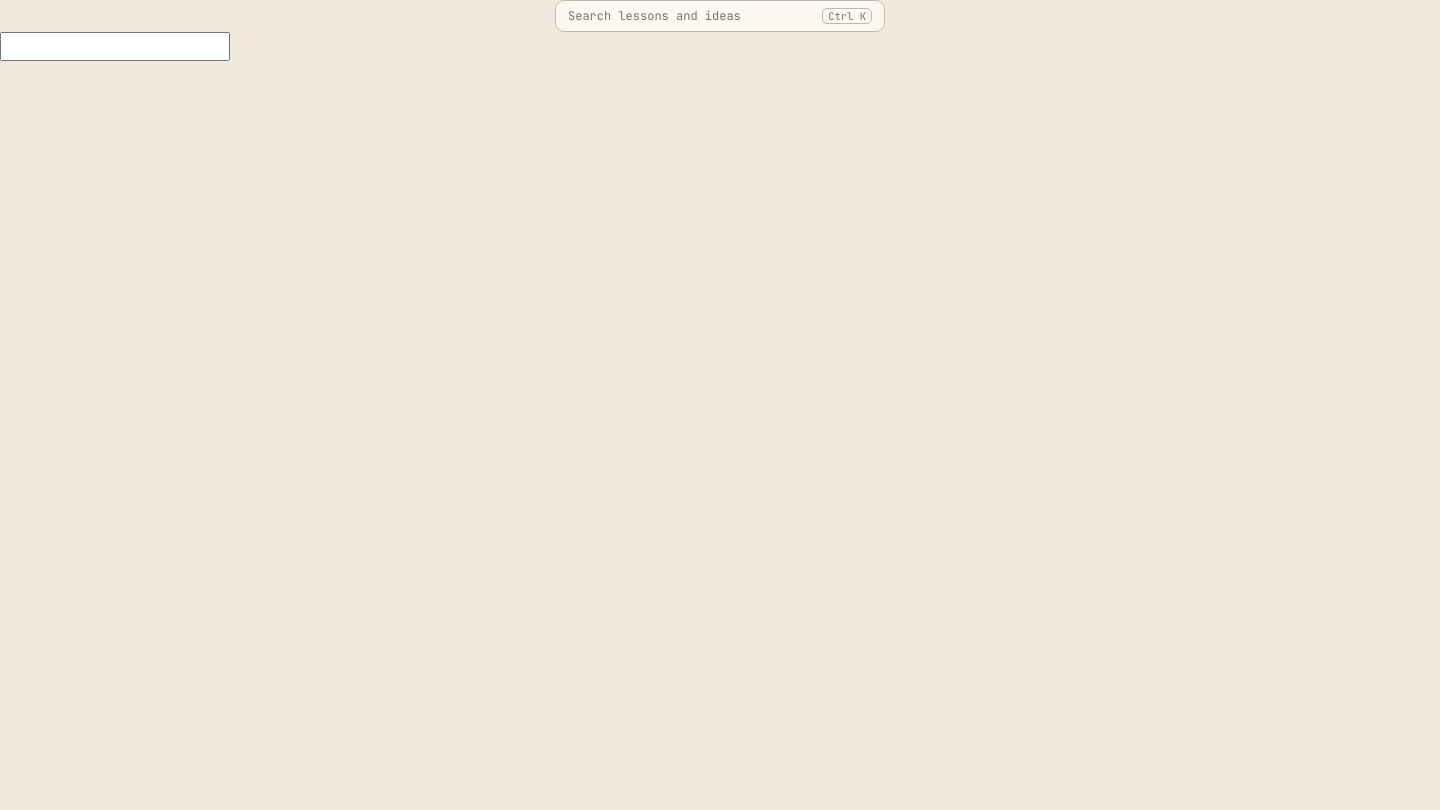
Test: SearchPalette › Ctrl K opens it, loads the index once, and Enter opens the highlighted result
Step 1. Type keys "{Control>}k{/Control}"
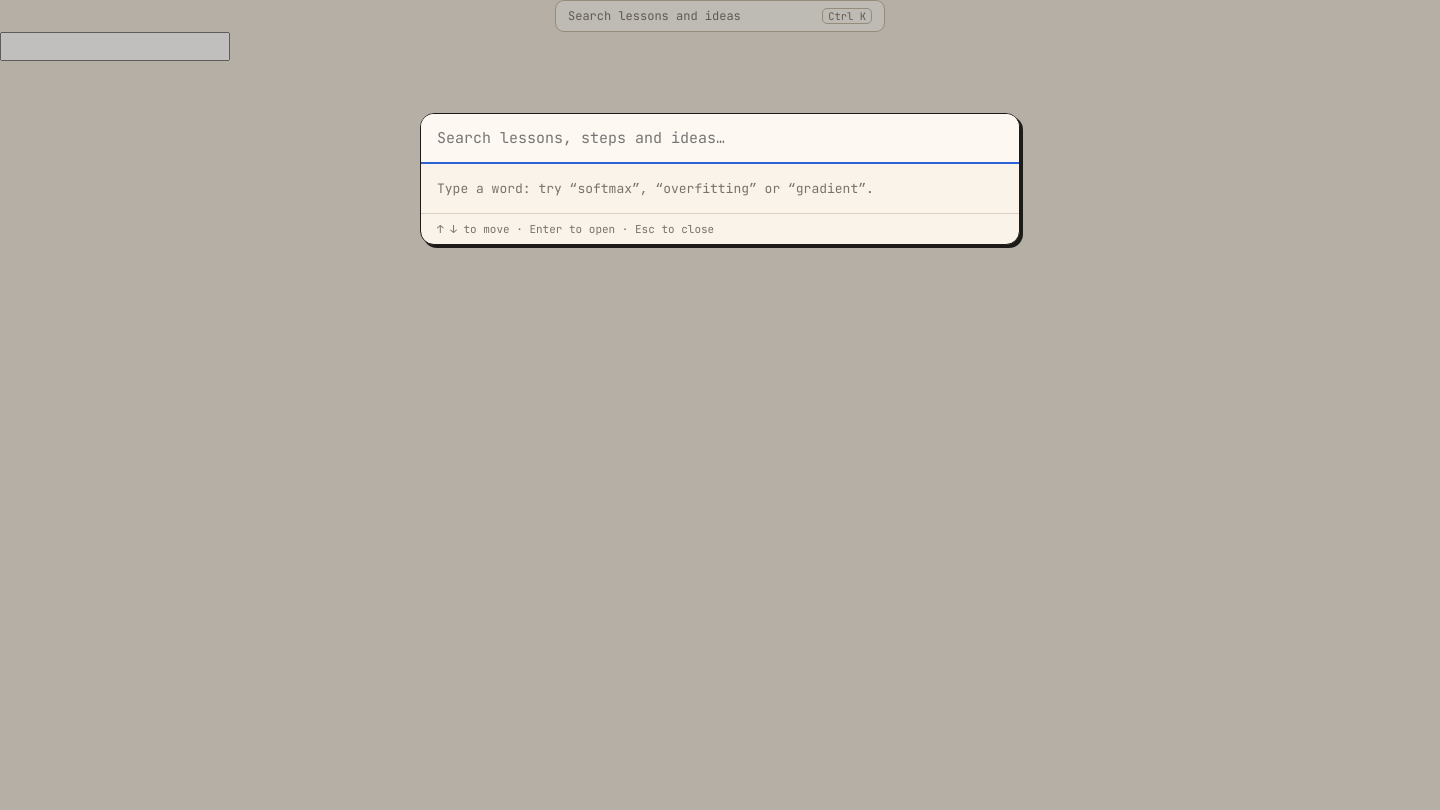
Step 2. Type "blame" into the dropdown → [720, 139], box [421,114,1019,164]
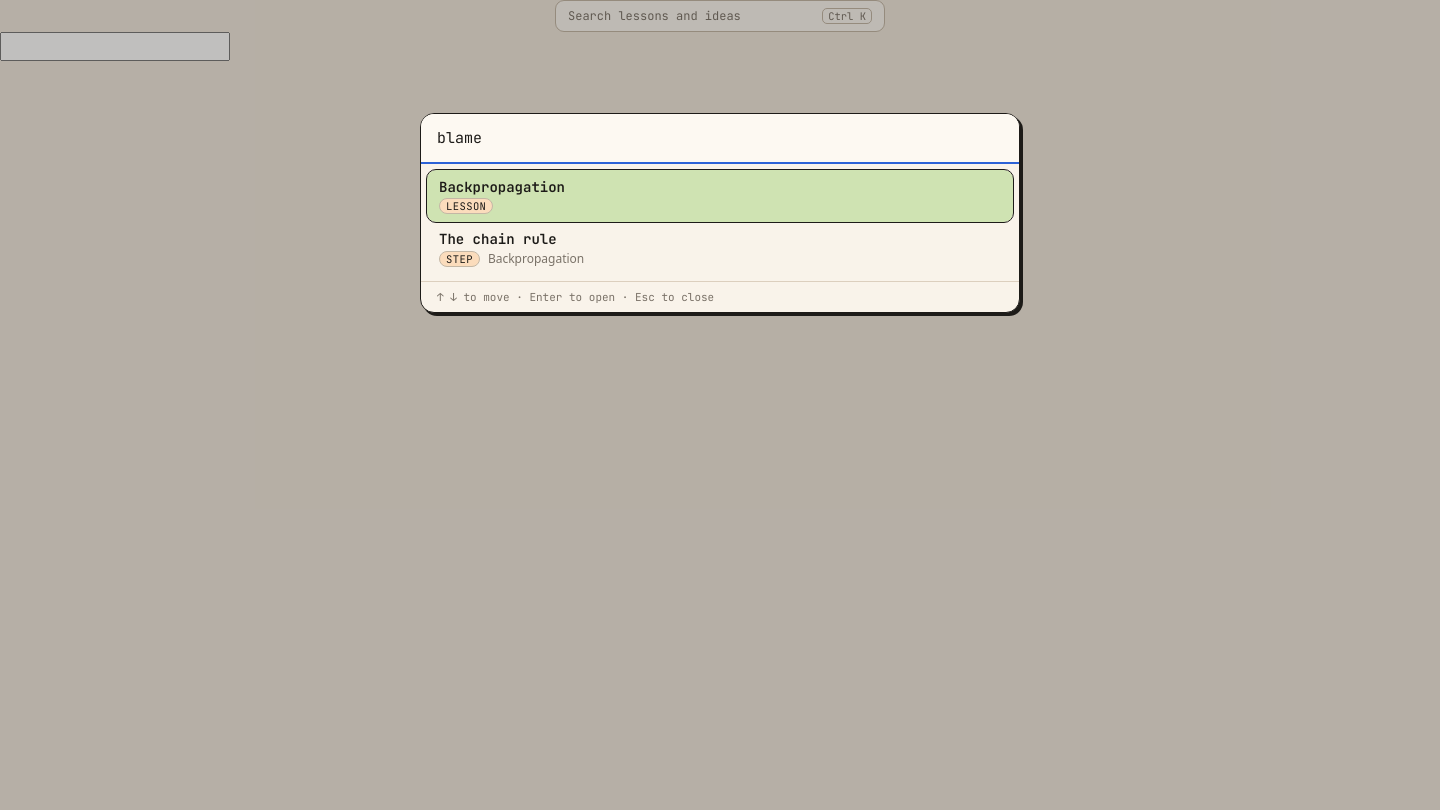
Expected: the number of options is 2, [427,170,1013,222]; [439,230,584,267]
Step 3. Press Arrowdown
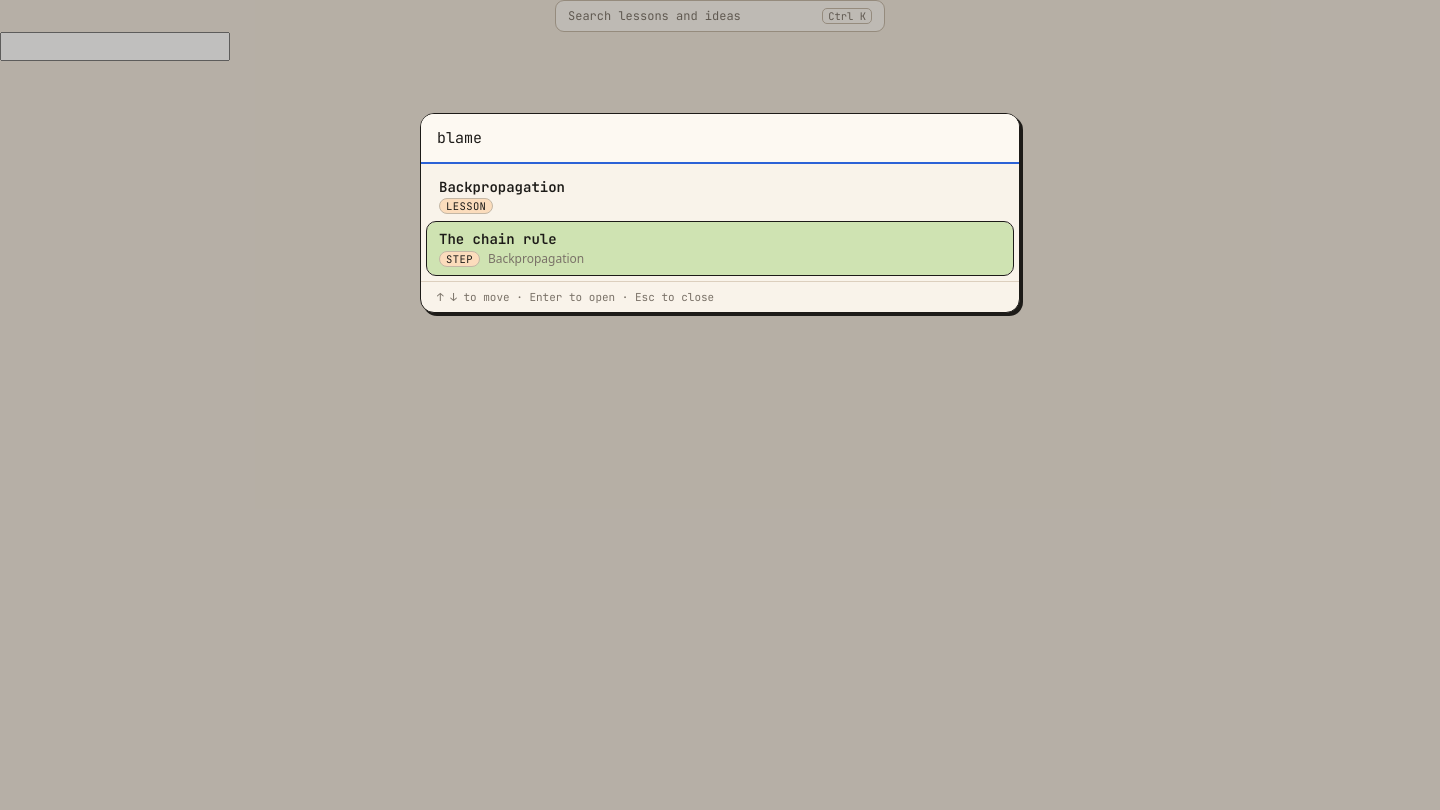
Expected: the option "The chain rule Step Backpropagation" is selected, [427,222,1013,275]
Step 4. Press Enter
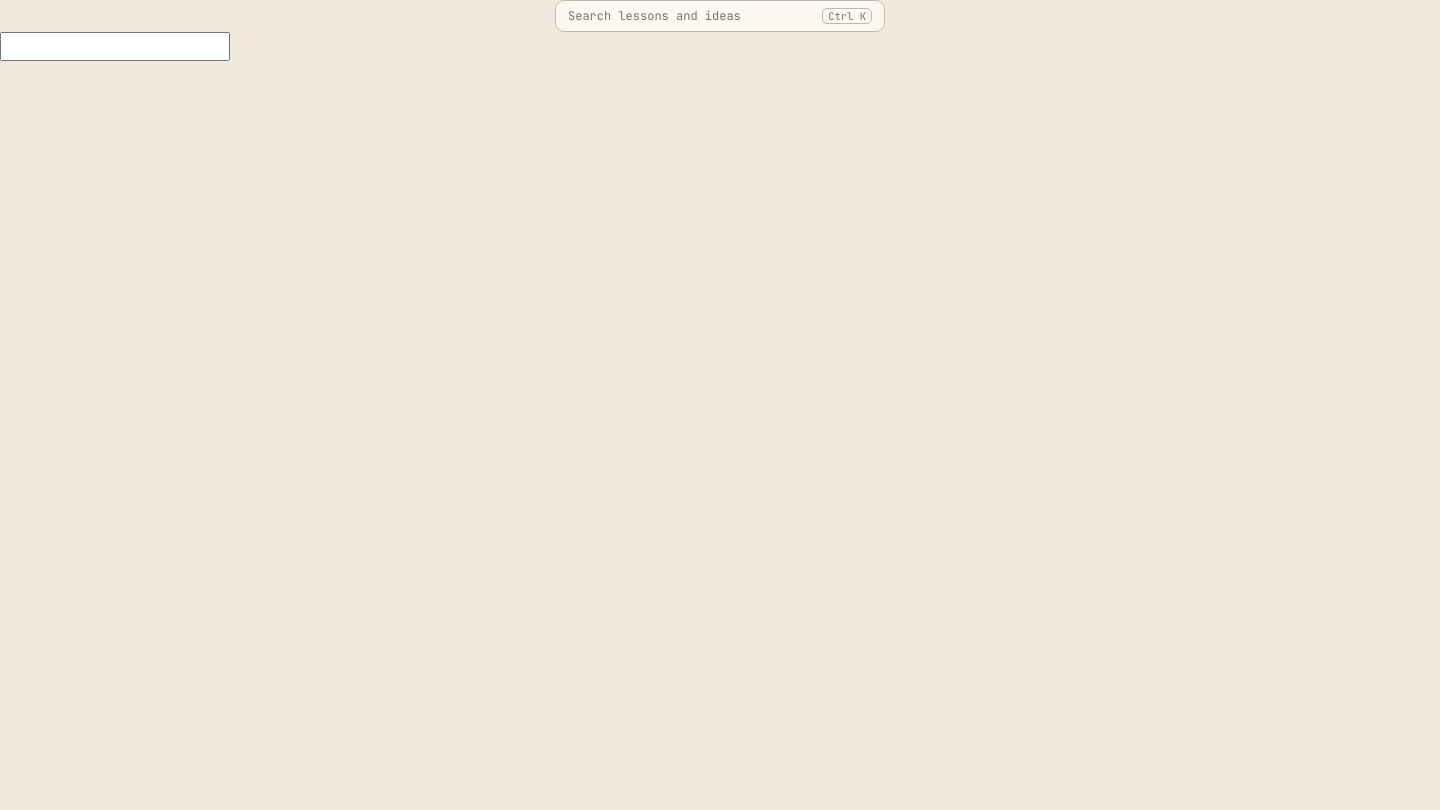
Expected: the dialog is gone
Step 5. Type keys "{Control>}k{/Control}"
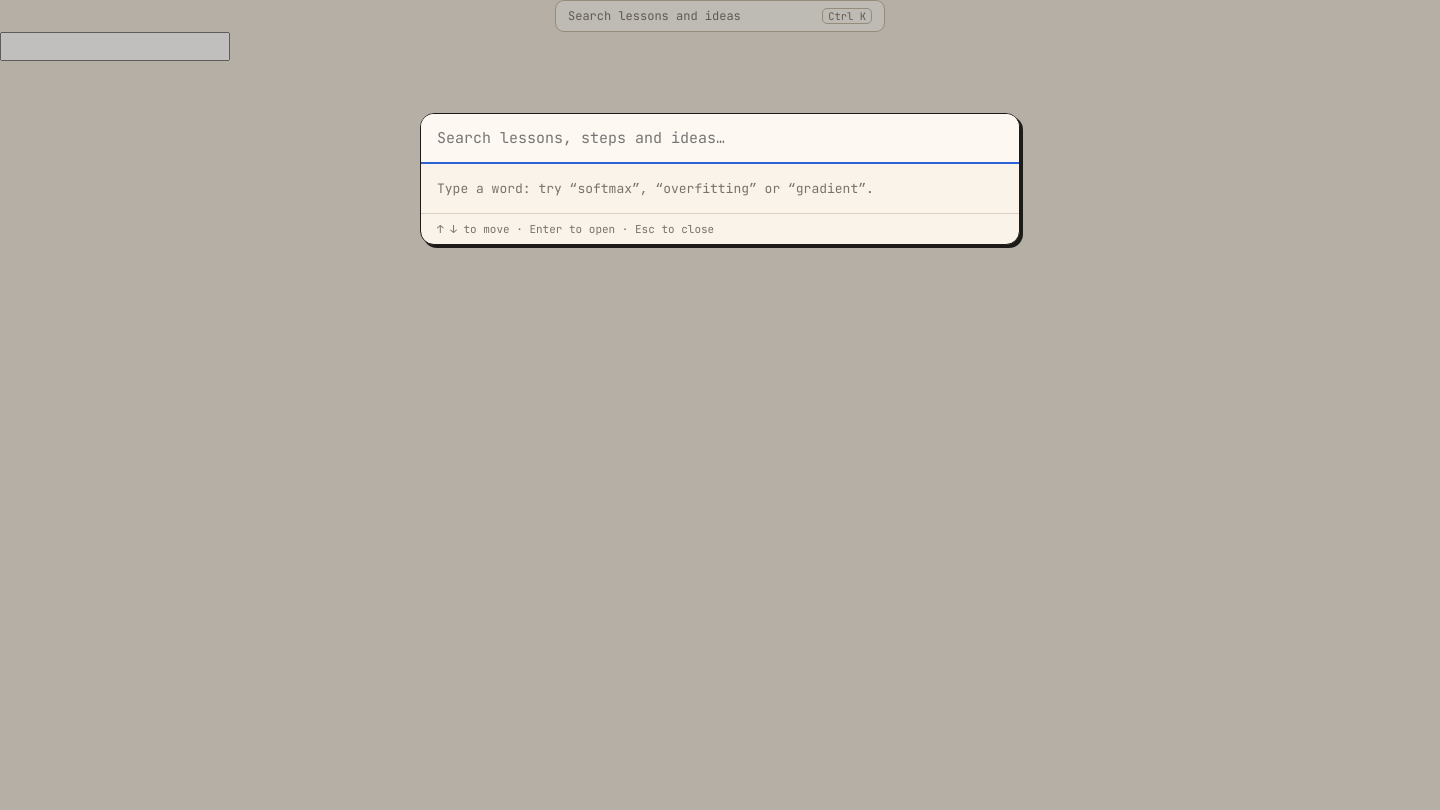
Expected: the dropdown is shown, [421,114,1019,164]
